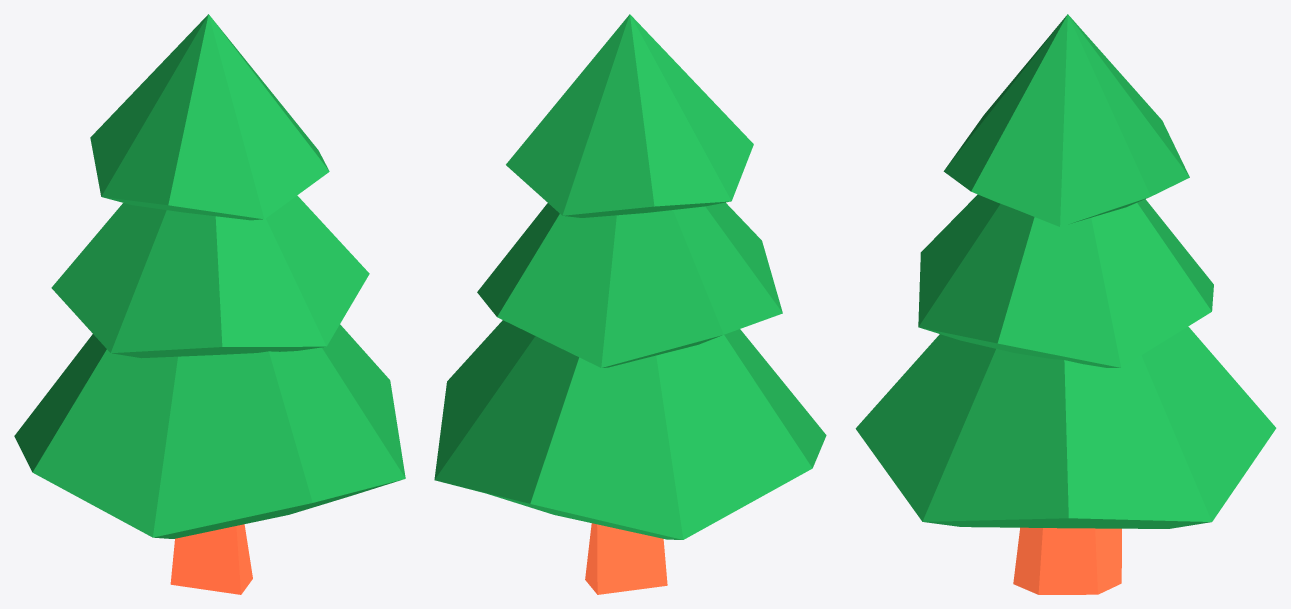
Rendered from Tree.fbx.
3 views of the same model, side by side, from view 1: azimuth 30°, elevation 25°; view 2: azimuth 150°, elevation 25°; view 3: azimuth 270°, elevation 25° (orthographic).
Parts seen in each view (by area): view 1: Tree; view 2: Tree; view 3: Tree.
Boxes of the visible parts, box(x1,y1,x2,y2) form: Tree: box(14, 14, 405, 594); Tree: box(434, 14, 826, 594); Tree: box(855, 14, 1276, 594).
Bounding box in the file's own units: 353 × 525 × 353.
